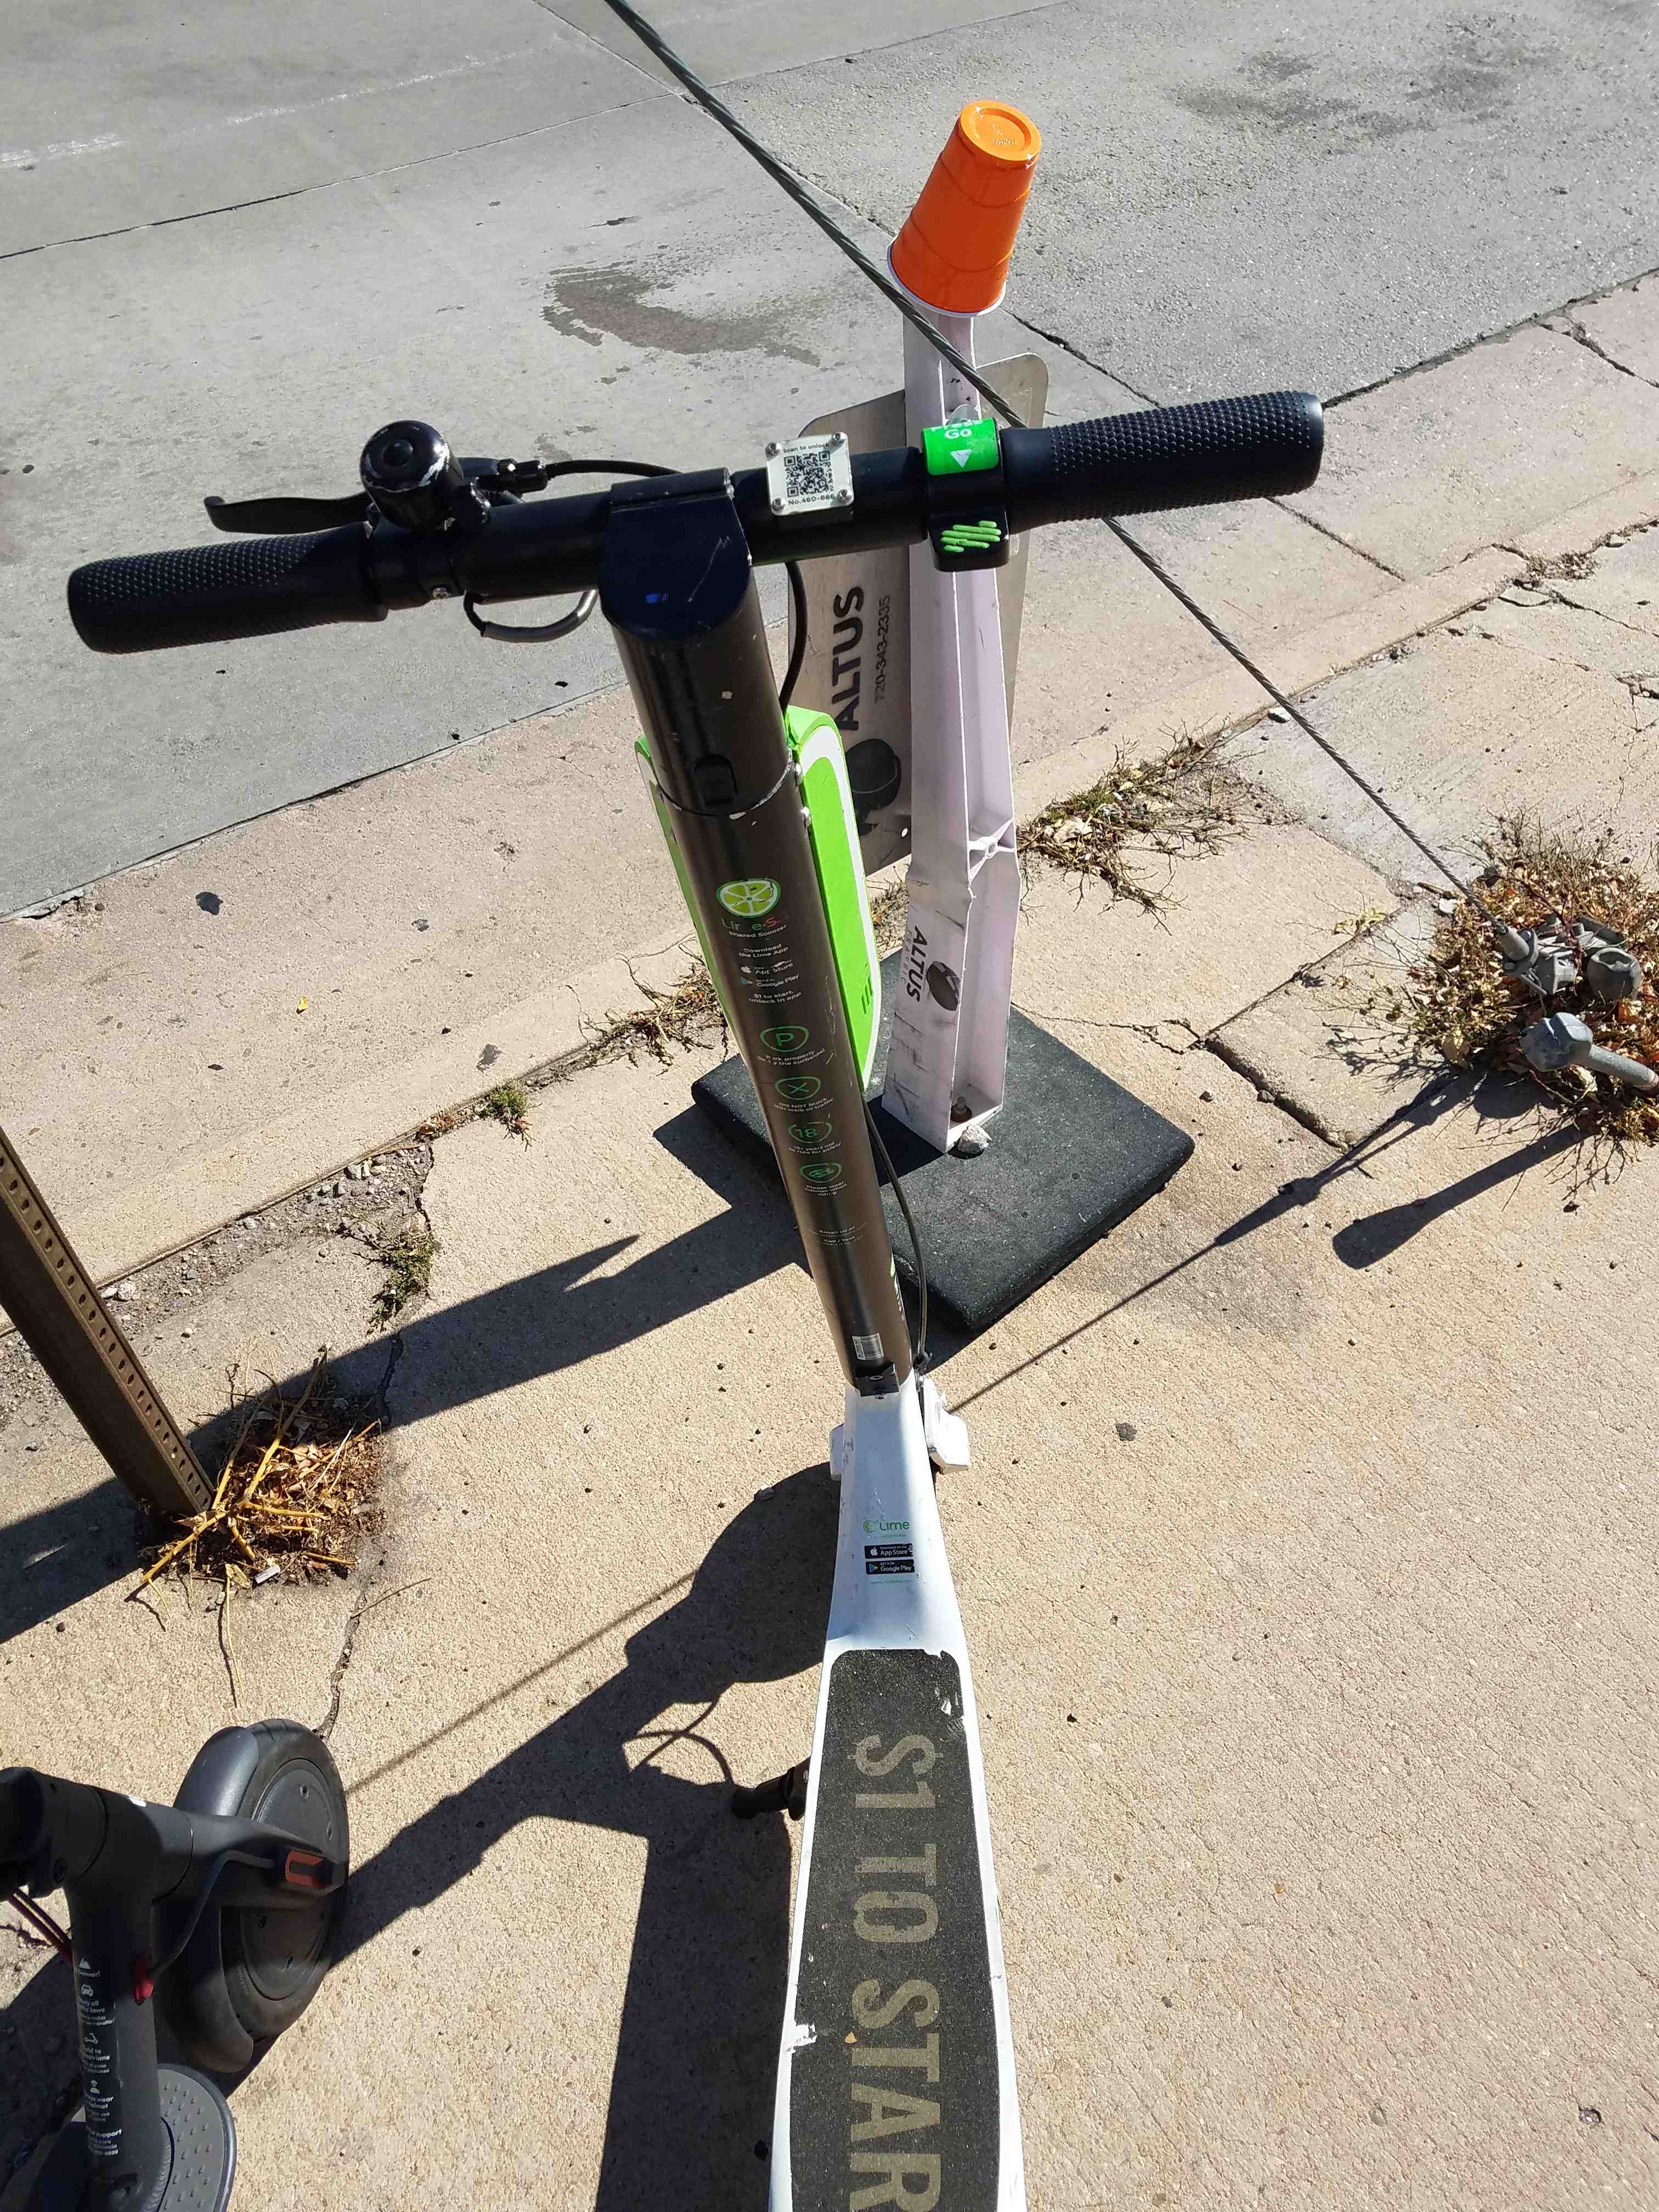scooter: (143, 352, 1328, 2189)
